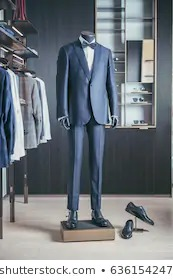F_M_suit jacket: (56, 41, 118, 128)
F_dress pants: (65, 116, 108, 211)
